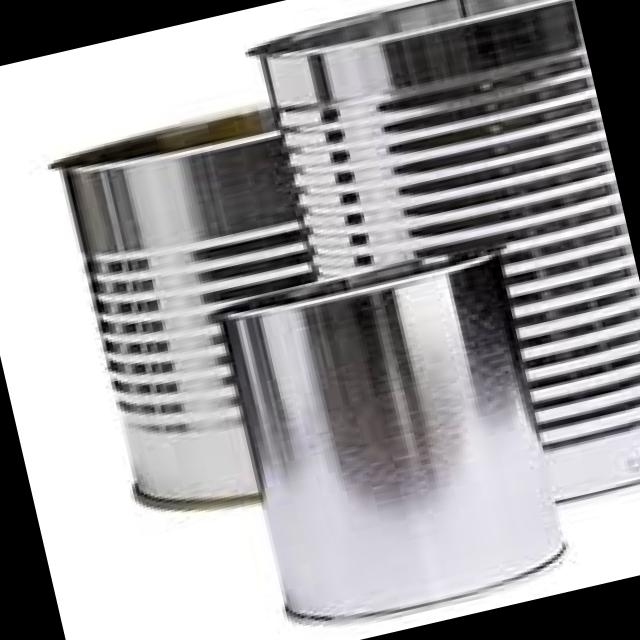kim_loai: (254, 0, 640, 501), (221, 249, 569, 624), (48, 110, 315, 511)
